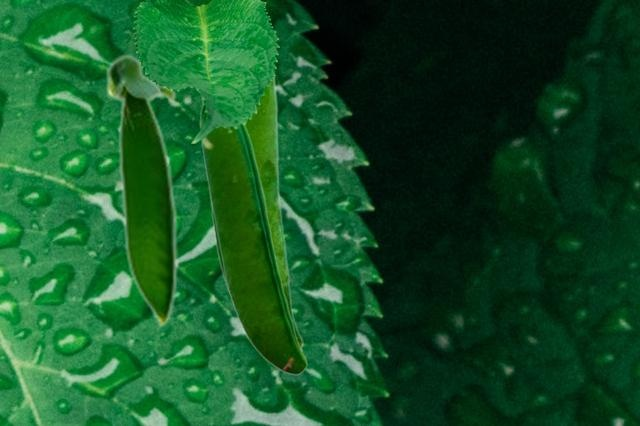pea: (198, 94, 306, 374), (210, 30, 302, 348), (104, 52, 177, 331)
